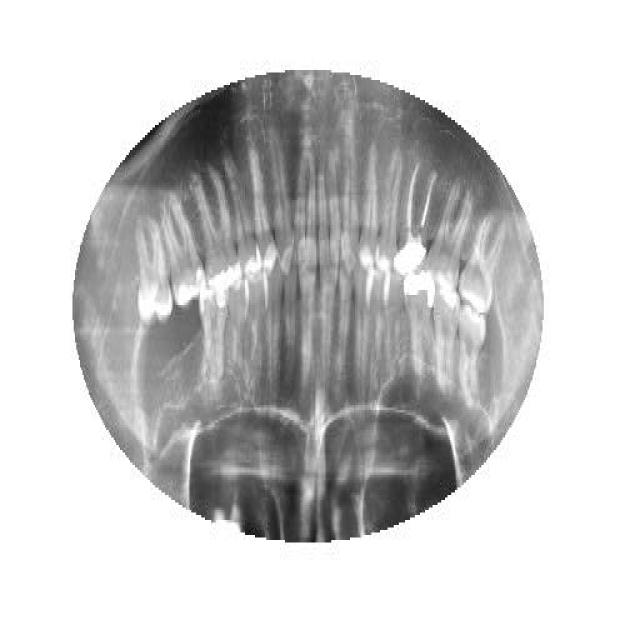Fillings: (194, 165, 240, 290), (160, 190, 206, 308), (403, 272, 438, 380), (198, 288, 230, 378)
Implant: (395, 160, 437, 275)
